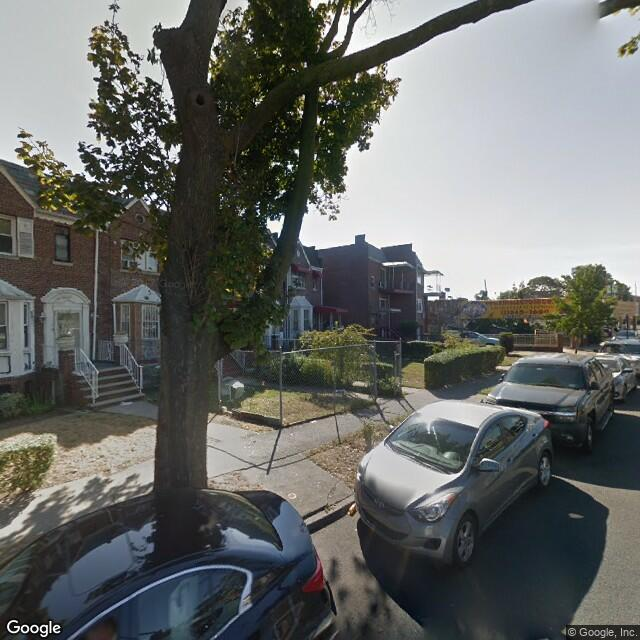litter: (342, 501, 358, 515), (385, 421, 397, 432)
